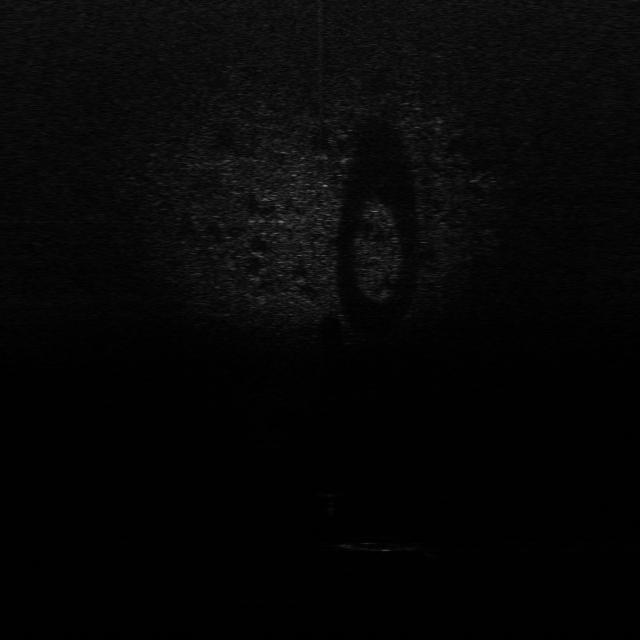ball: (317, 482, 348, 498)
tyre: (336, 532, 432, 560)
